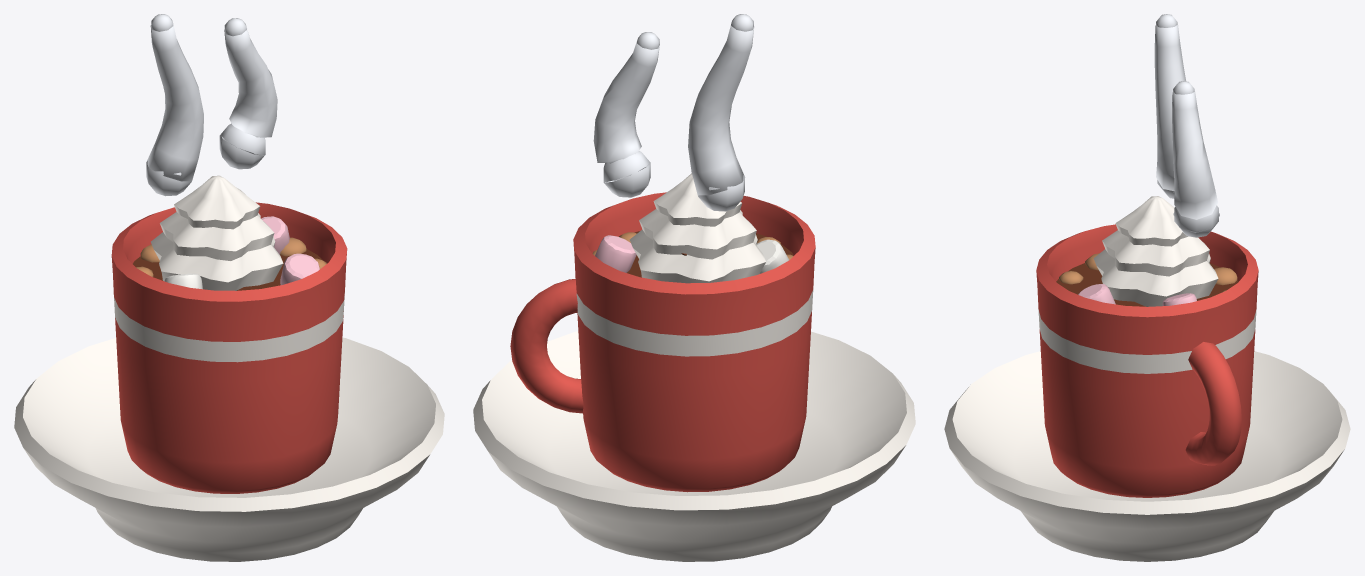
Rendered from chocolate-quente.glb.
The picture shows the model from 3 angles, left to right: view 1: azimuth 30°, elevation 25°; view 2: azimuth 150°, elevation 25°; view 3: azimuth 270°, elevation 25°; orthographic projection. The views are drawn at different scales.
Visible parts, largest first — view 1: chocolate-quente; view 2: chocolate-quente; view 3: chocolate-quente.
Boxes of the visible parts, bbox=[...] form: chocolate-quente: bbox=[14, 14, 444, 561]; chocolate-quente: bbox=[473, 14, 915, 561]; chocolate-quente: bbox=[944, 14, 1350, 561].
Size of the model in its own units: 0.19 by 0.2423 by 0.19.
